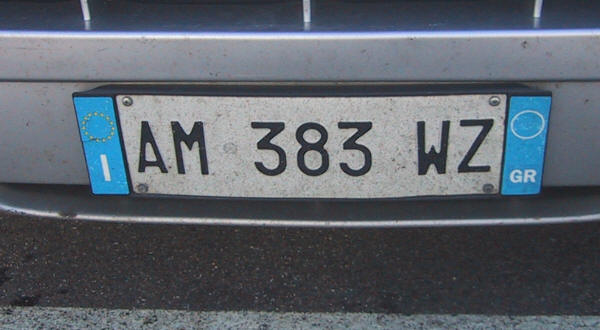license_plate: (71, 93, 552, 201)
